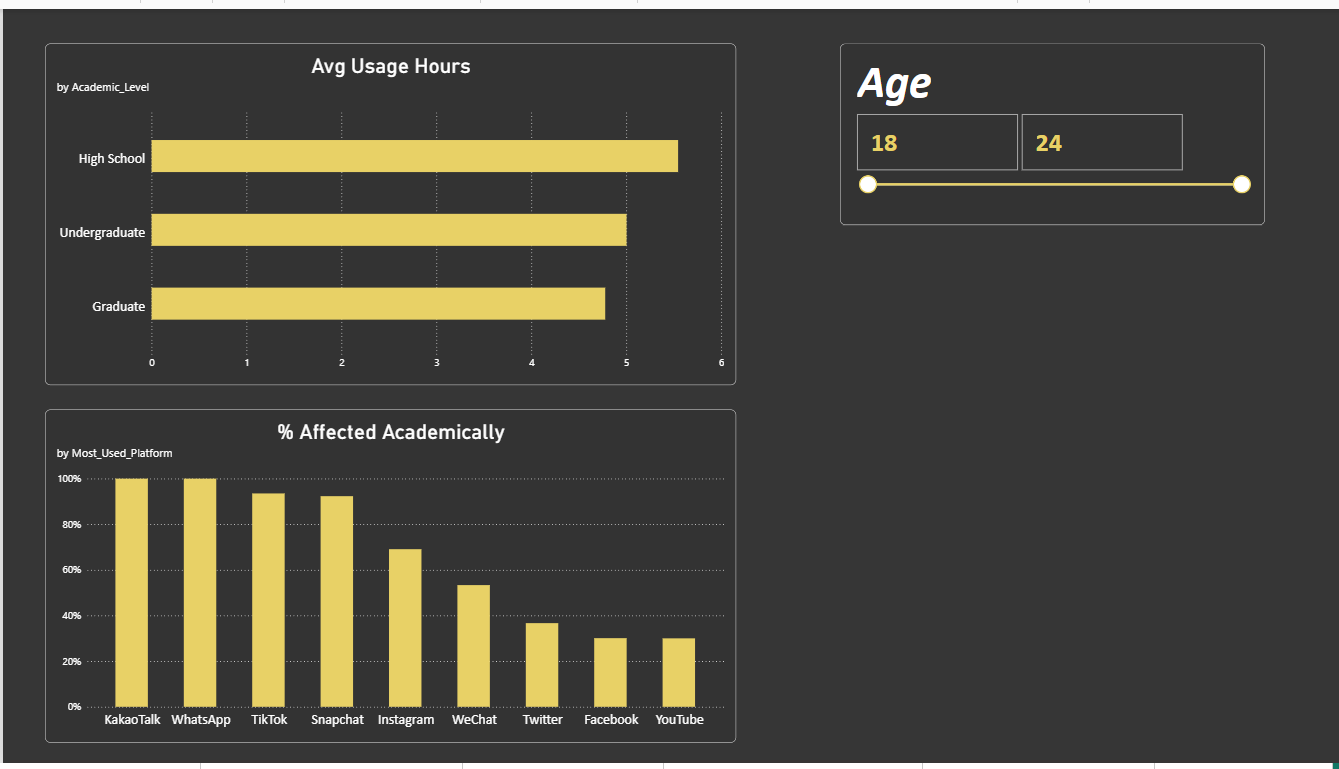

Layout of this report page (visuals, bound fields, positions):
{"tool":"powerbi","page":{"name":"Academic Impact","canvas":[1920,1080],"ordinal":2},"visuals":[{"type":"slicer","fields":{"Values":["Student_Details.Age"]},"box":[1198.4,50.3,608.4,260.1],"z":0},{"type":"clusteredBarChart","fields":{"Category":["Student_Details.Academic_Level"],"Y":["_Measures.Avg Usage Hours"]},"box":[59.6,50.1,990.2,489.1],"z":1000},{"type":"clusteredColumnChart","fields":{"Category":["Platform_Details.Most_Used_Platform"],"Y":["_Measures.% Affected Academically"]},"box":[59.6,572.6,990.2,477.2],"z":2000}]}

Visuals, with their boxes in screenshot pixels (x1, y1, x2, y2), scaled from the page's 1920x1080 canvas onto the 1339x769 screenshot:
slicer - Student_Details.Age: left=836, top=36, right=1260, bottom=221
clusteredBarChart - Student_Details.Academic_Level x _Measures.Avg Usage Hours: left=42, top=36, right=732, bottom=384
clusteredColumnChart - Platform_Details.Most_Used_Platform x _Measures.% Affected Academically: left=42, top=408, right=732, bottom=747
